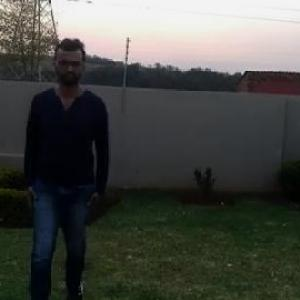follow: (30, 30, 117, 299)
